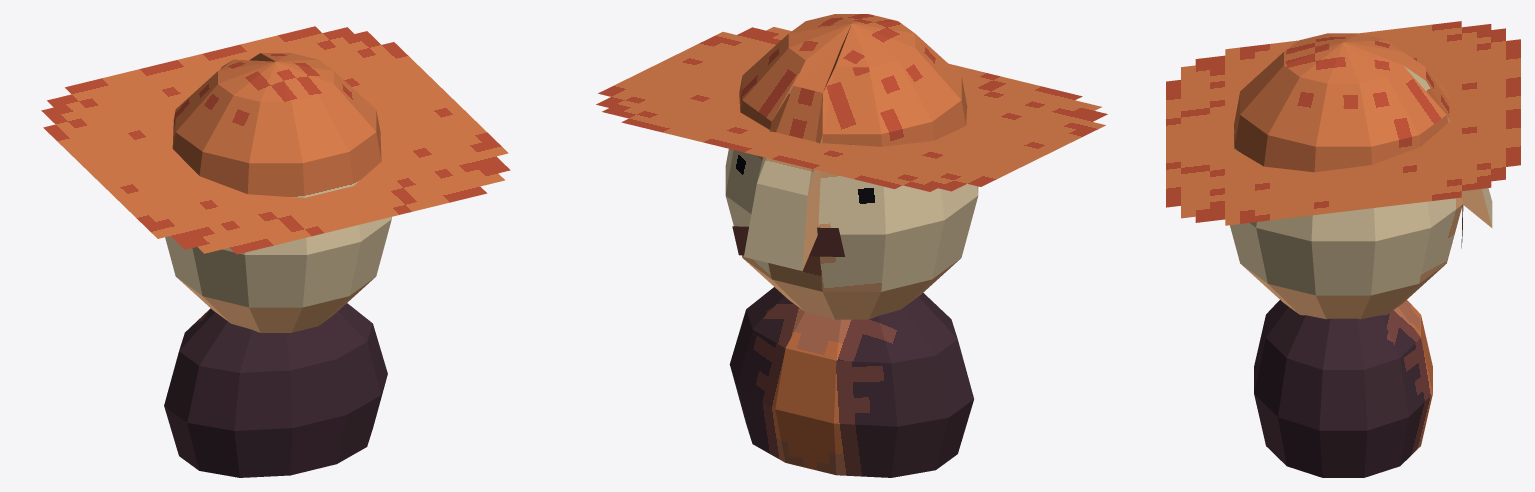
The model's file is Farmer.gltf.
3 views of the same model, side by side, from view 1: azimuth 30°, elevation 25°; view 2: azimuth 150°, elevation 25°; view 3: azimuth 270°, elevation 25° (orthographic). The views are drawn at different scales.
Visible parts, largest first — view 1: sphere; view 2: sphere; view 3: sphere.
Part boxes in pixels (x1=…): sphere: x1=41, y1=26, x2=510, y2=477; sphere: x1=596, y1=14, x2=1107, y2=477; sphere: x1=1166, y1=21, x2=1520, y2=477.
Bounding box in the file's own units: 1.75 × 1.81 × 1.49.
Materials: 1 (1 with a texture image).
